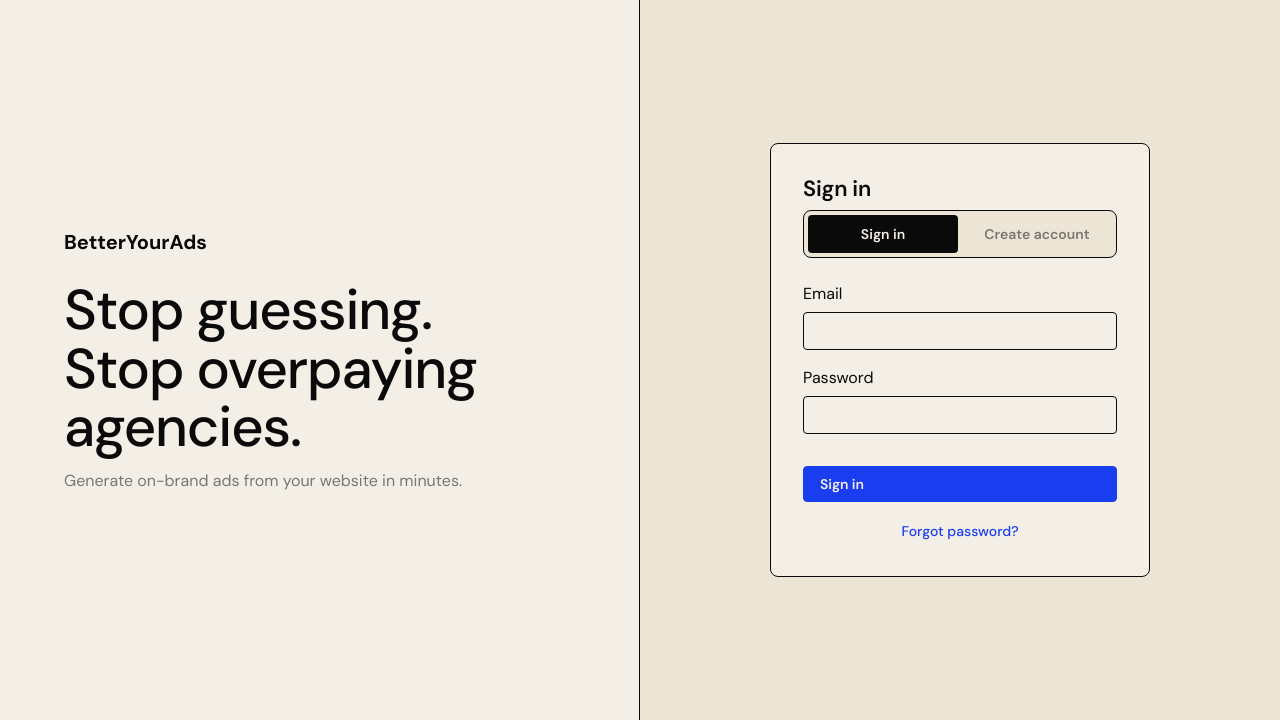
Test case: LoginView › switches to sign-up mode, creates an account, and shows the check-email message
Click the button "Create account".
click(1037, 234)  # box [962, 215, 1112, 253]
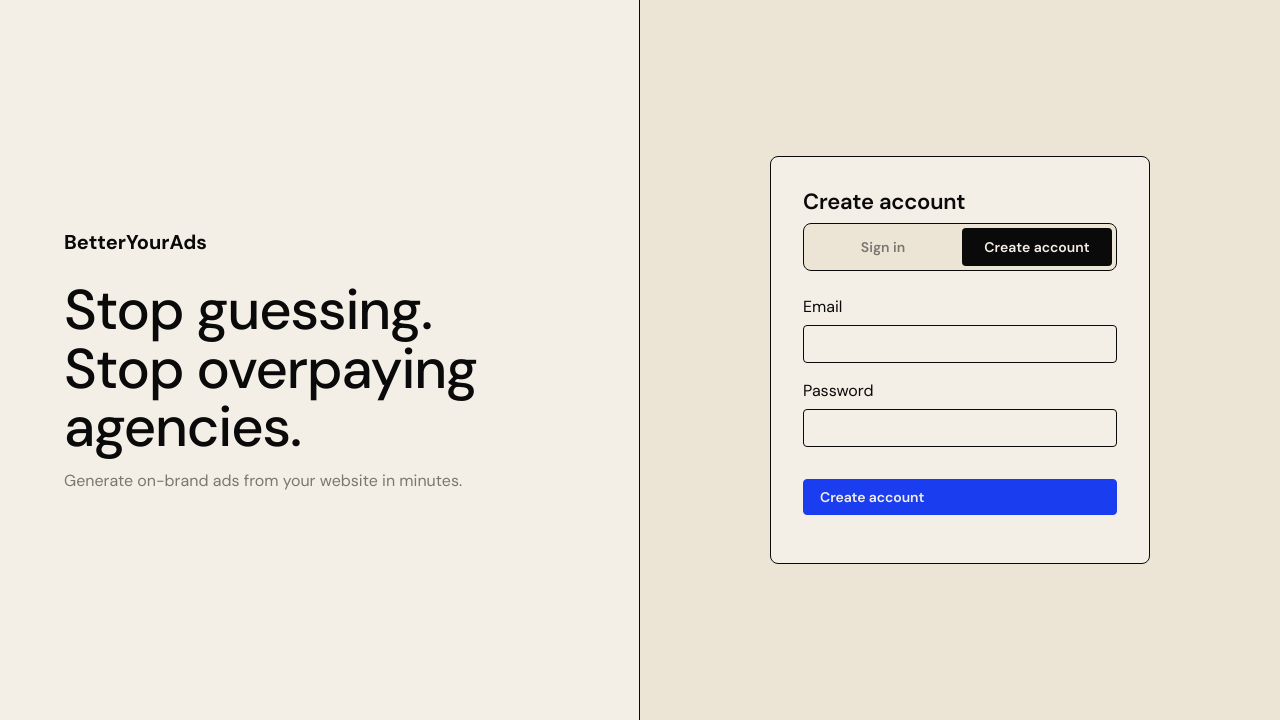
Type "a@b.com" into the field labelled "Email".
click(960, 344); type("a@b.com")  # box [803, 325, 1117, 363]
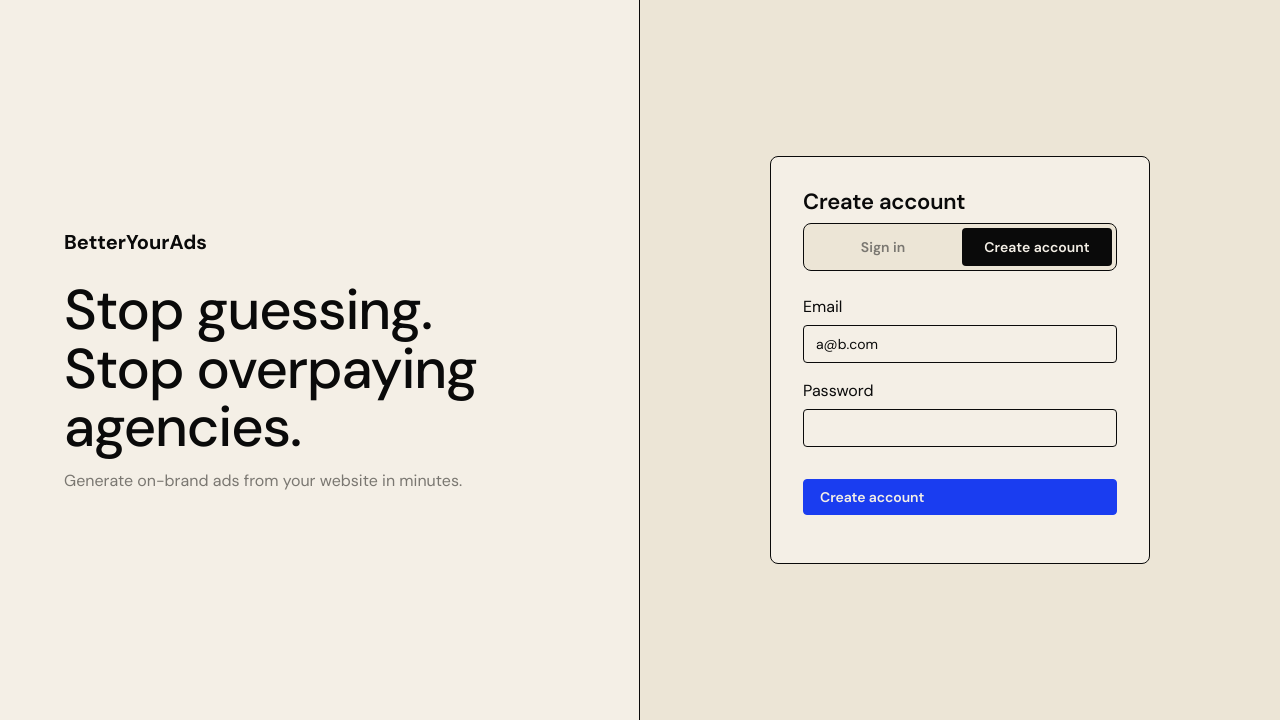
Type "secret1" into the password field labelled "Password".
click(960, 428); type("secret1")  # box [803, 409, 1117, 447]
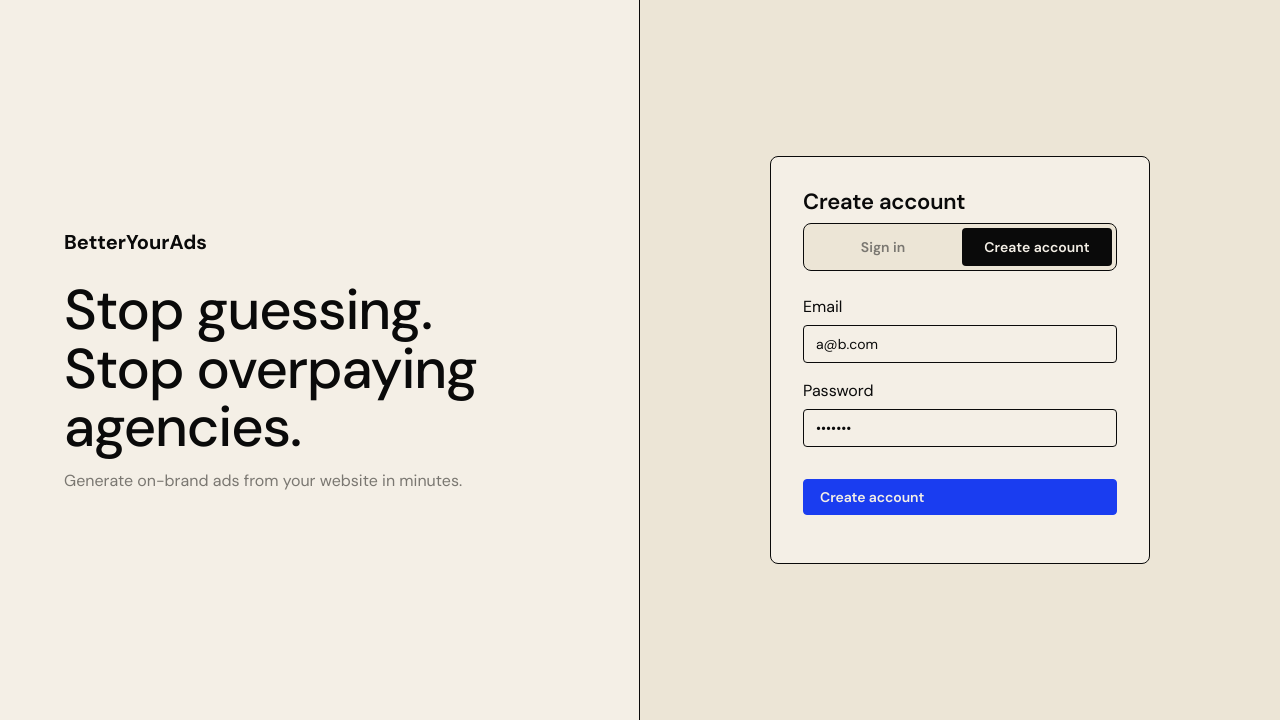
Click the submit button.
click(872, 497)  # box [803, 479, 1117, 515]
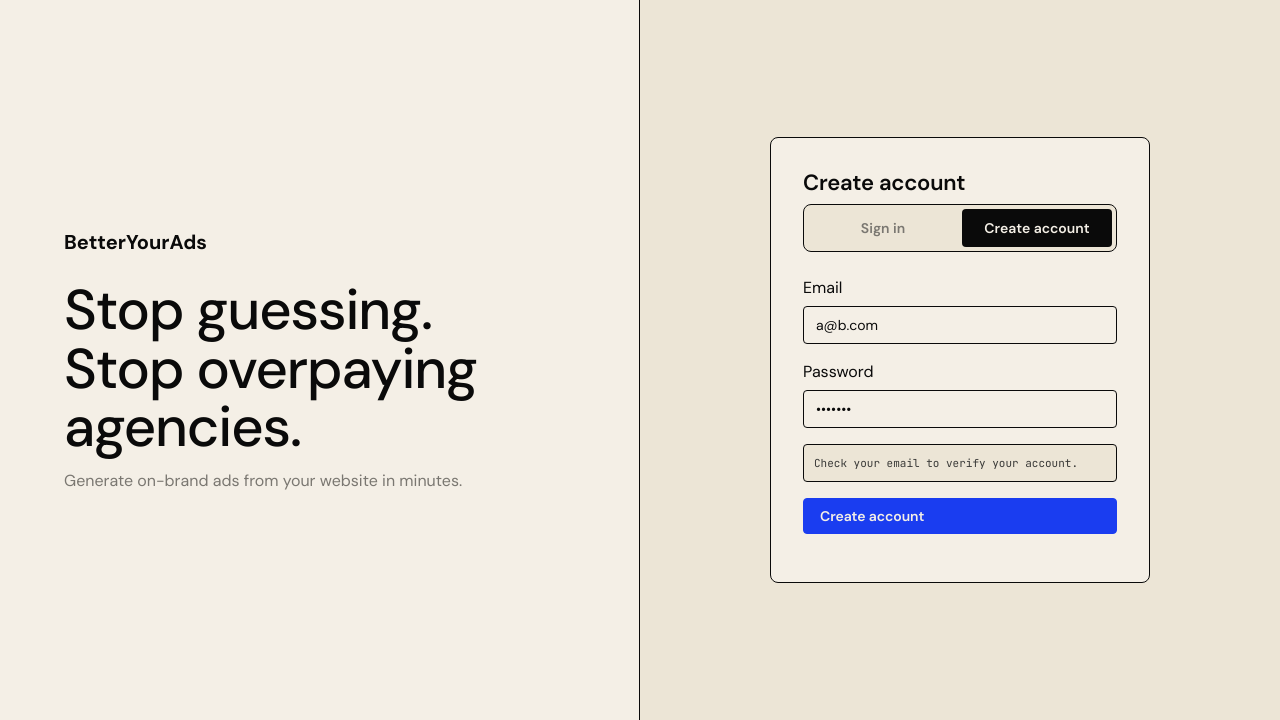
Expected: the text "Check your email to verify your account." is shown, [803, 444, 1117, 482]
